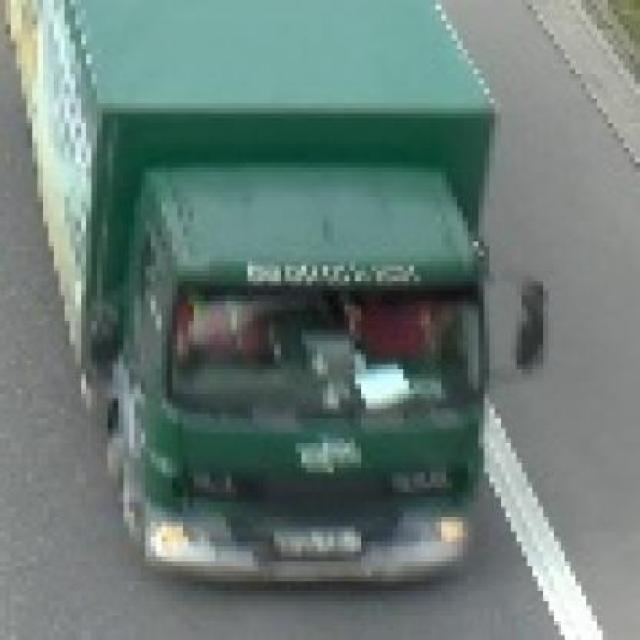truck: (1, 1, 544, 587)
